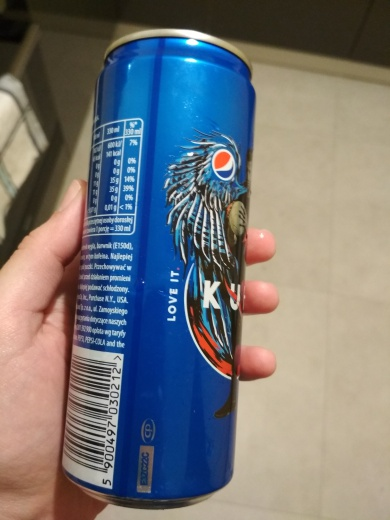pepsi: (57, 25, 258, 511)
